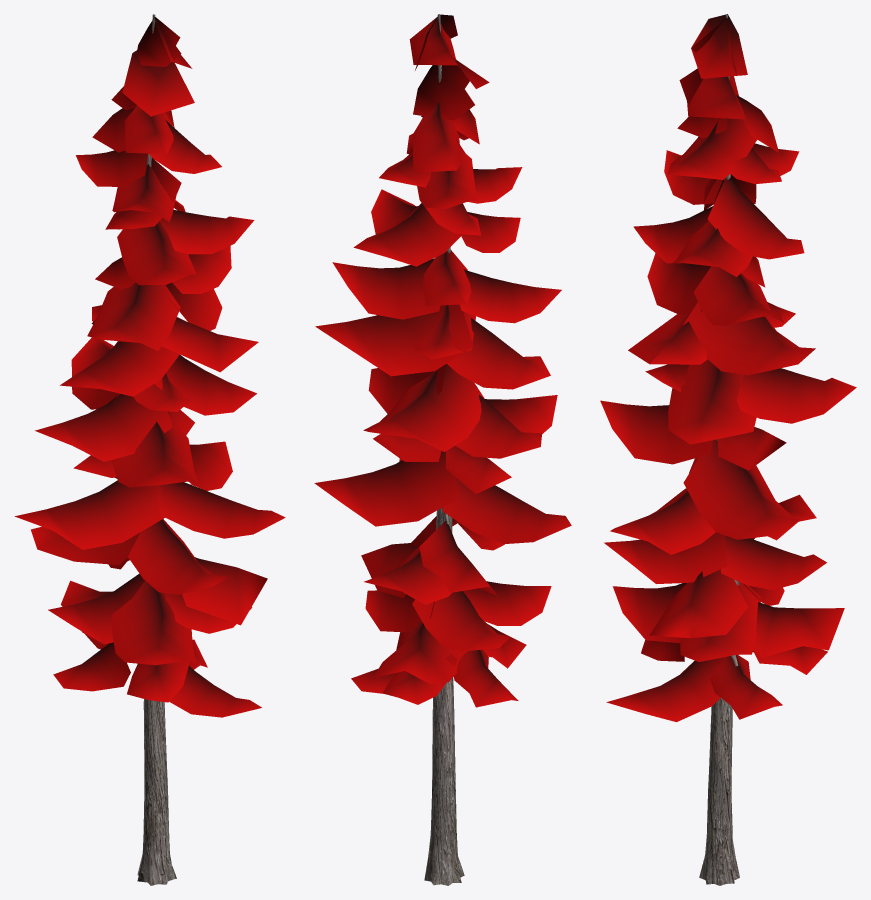
Rendered from SM_PineTree_B.FBX.
3 views of the same model, side by side, from view 1: azimuth 30°, elevation 25°; view 2: azimuth 150°, elevation 25°; view 3: azimuth 270°, elevation 25° (orthographic).
Visible parts, largest first — view 1: Canopy, Trunk; view 2: Canopy, Trunk; view 3: Canopy, Trunk.
Boxes of the visible parts, <box> form: Canopy: <box>14,16,285,717</box>; Trunk: <box>137,14,176,885</box>; Canopy: <box>314,14,571,707</box>; Trunk: <box>424,14,464,885</box>; Canopy: <box>600,14,856,722</box>; Trunk: <box>699,14,739,885</box>.
Size of what is drawn, in the model's own units: 117 by 413 by 111.
